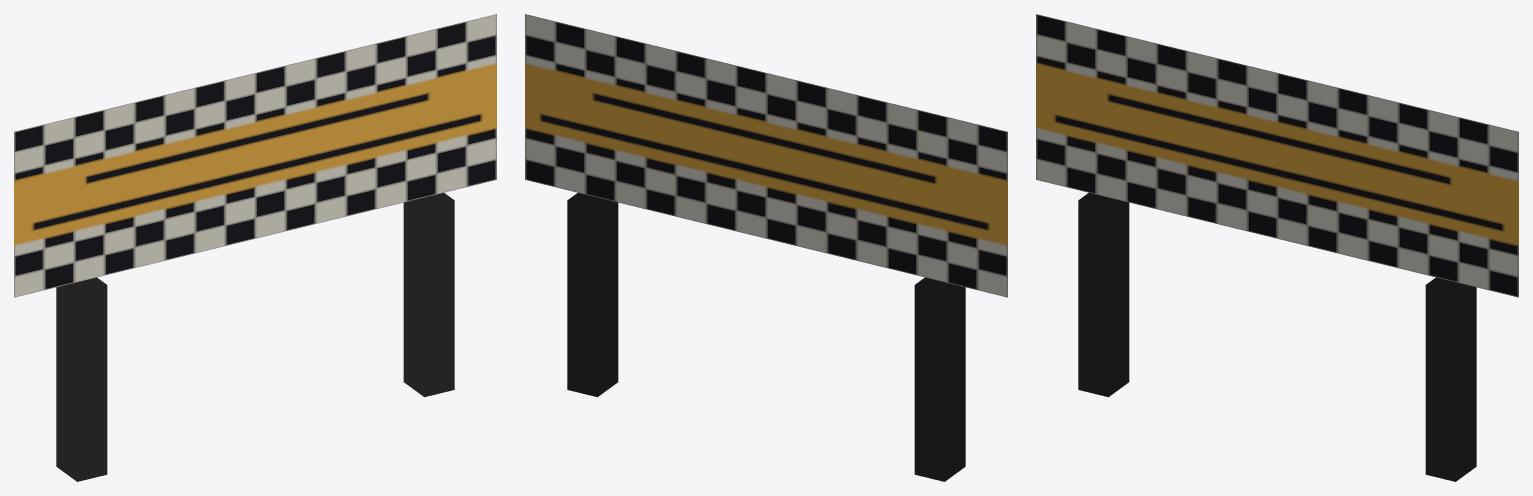
File: speedway-sign.gltf
3 renders of one model, left to right at view 1: azimuth 30°, elevation 25°; view 2: azimuth 150°, elevation 25°; view 3: azimuth 330°, elevation 25°, orthographic.
Parts seen in each view (by area): view 1: Textured Speedway Sign; view 2: Textured Speedway Sign; view 3: Textured Speedway Sign.
Part boxes in pixels (<box>): Textured Speedway Sign: <box>14,14,496,481</box>; Textured Speedway Sign: <box>525,14,1007,481</box>; Textured Speedway Sign: <box>1036,14,1518,481</box>.
Size of the model in its own units: 3.2 by 2.25 by 0.24.
Materials: 2 (1 with a texture image).
